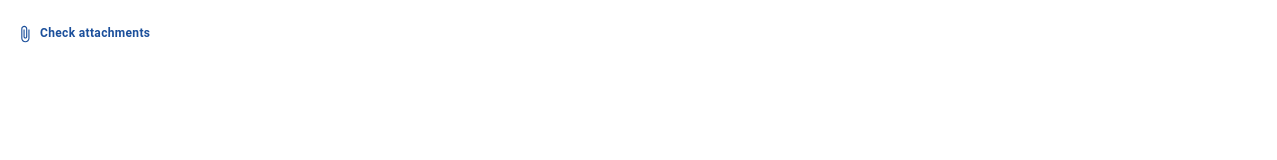
Test: TicketCommentAttachments › shows the count and reopens loaded files without a second request
Click the button "Check attachments". click: (83, 34)
box: [8, 16, 158, 52]
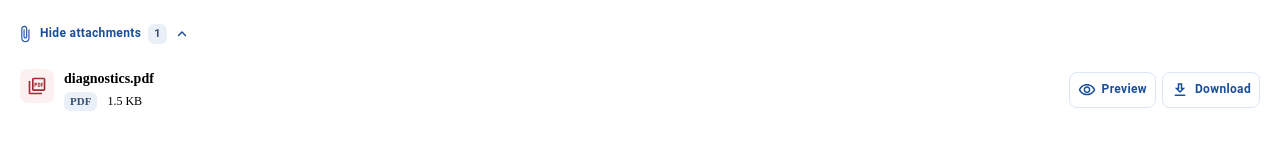
Expected: the button with aria-label "Hide attachments (1 file)" is expanded
Expected: the text "1.5 KB" is shown, [107, 93, 142, 109]
Expected: the button with aria-label "Preview diagnostics.pdf" is shown, [1069, 72, 1156, 108]
Click the button with aria-label "Hide attachments (1 file)". click: (103, 34)
box: [8, 16, 199, 52]
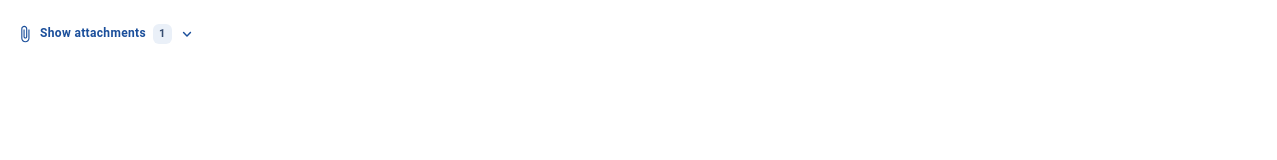
Expected: the button with aria-label "Show attachments (1 file)" is collapsed
Expected: the text "diagnostics.pdf" is gone
Click the button with aria-label "Show attachments (1 file)". click: (106, 34)
box: [8, 16, 204, 52]
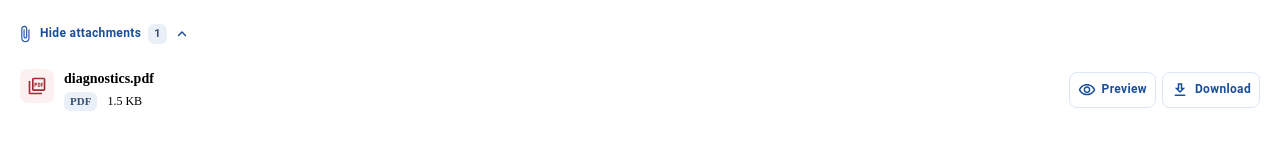
Expected: the text "diagnostics.pdf" is shown, [64, 71, 154, 86]
